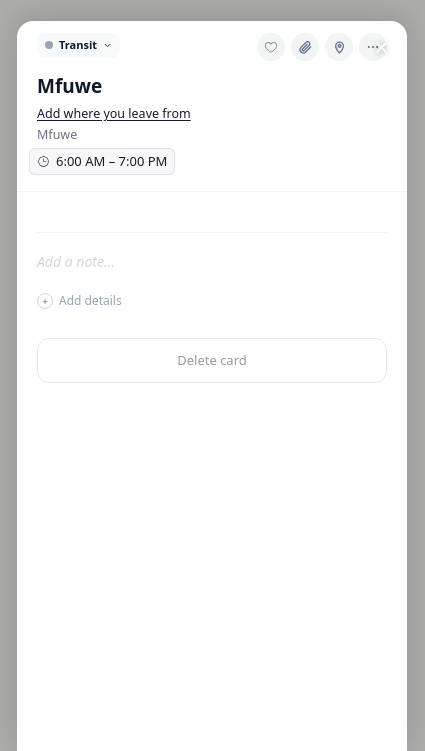
it: CardBottomSheet — a travel leg (7 Oct 2026) › a transit card with no start asks where you leave from, and the tap opens the search
The image size is (425, 751).
Step 1. Click the button with aria-label "Set where this starts" → (114, 114), box [37,106,191,123]
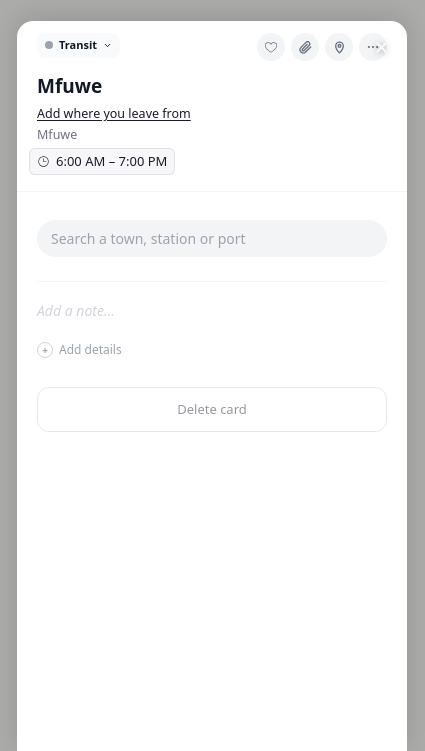
Expected: the field with placeholder "Search a town, station or port" is shown, [37,220,387,257]
